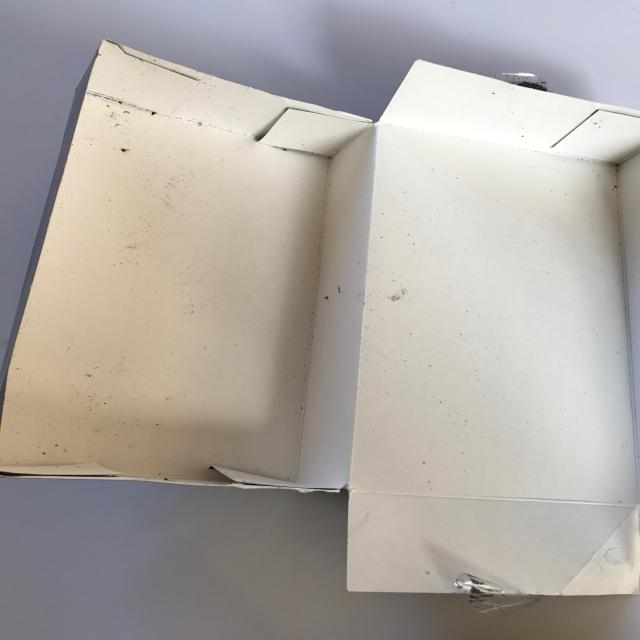paper: (0, 35, 640, 638)
